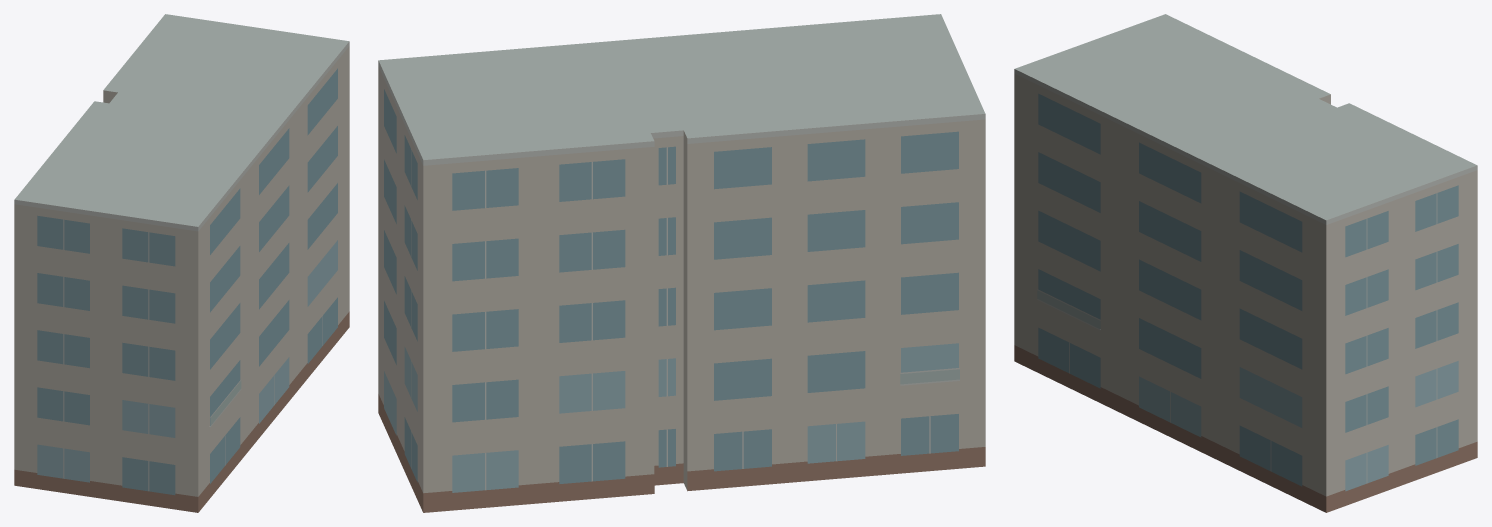
Rendered from survey-upis-32626499.glb.
3 views of the same model, side by side, from view 1: azimuth 30°, elevation 25°; view 2: azimuth 150°, elevation 25°; view 3: azimuth 270°, elevation 25° (orthographic). The views are drawn at different scales.
Visible parts, largest first — view 1: survey-upis-32626499.tmp; view 2: survey-upis-32626499.tmp; view 3: survey-upis-32626499.tmp.
Boxes of the visible parts, box(x1,y1,x2,y2) form: survey-upis-32626499.tmp: box(14, 14, 349, 512); survey-upis-32626499.tmp: box(378, 14, 985, 512); survey-upis-32626499.tmp: box(1014, 14, 1477, 512).
Size of the model in its own units: 23.09 by 15.25 by 21.89.
